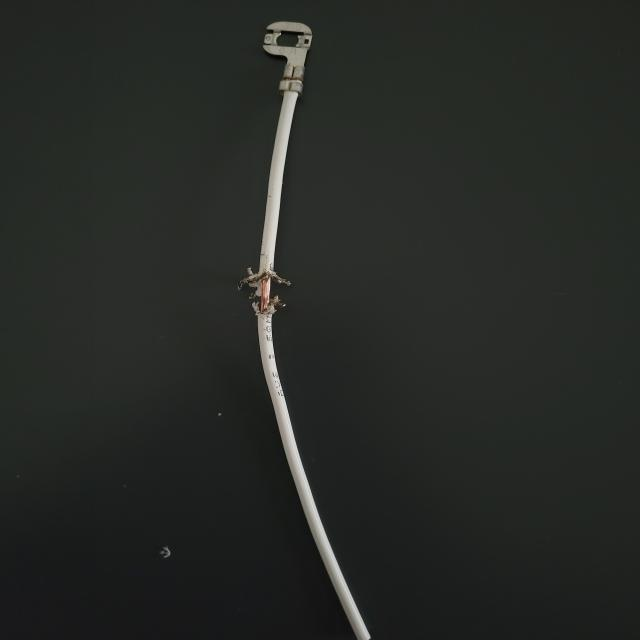defect: (192, 187, 446, 370)
